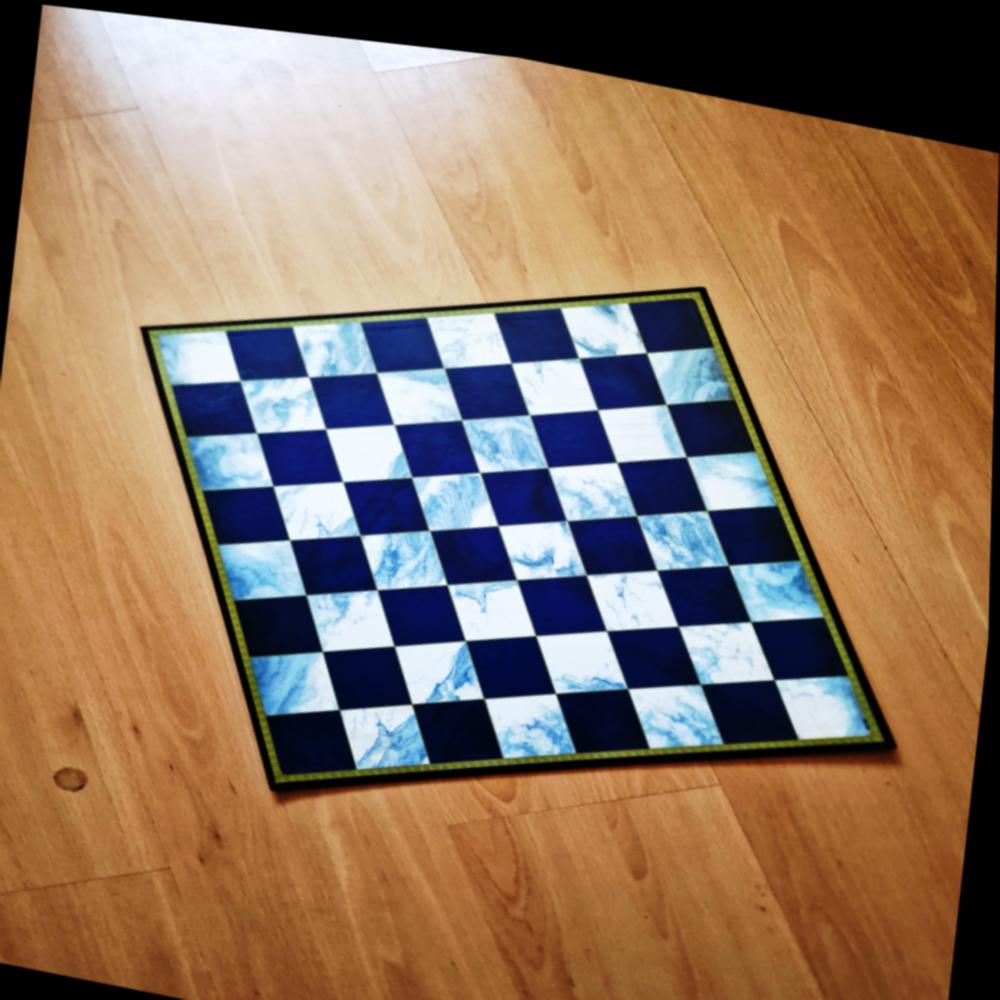chessfield: (765, 639, 891, 741), (623, 654, 734, 751), (478, 668, 585, 766), (674, 590, 783, 682), (697, 649, 804, 741), (338, 679, 442, 773), (549, 662, 654, 755), (138, 308, 249, 395), (721, 528, 828, 618), (242, 632, 345, 725), (527, 601, 632, 692), (212, 521, 317, 610), (627, 481, 734, 567), (388, 615, 488, 707), (261, 689, 361, 781), (410, 675, 512, 765), (296, 567, 399, 656), (443, 556, 546, 645), (580, 547, 685, 634), (603, 598, 706, 686), (355, 509, 457, 597), (317, 626, 417, 715), (679, 421, 781, 508), (648, 539, 751, 625), (593, 374, 695, 460), (748, 587, 847, 674), (267, 459, 367, 545), (373, 561, 473, 647), (464, 611, 561, 699), (404, 448, 503, 534), (539, 439, 639, 524), (510, 551, 610, 636), (319, 404, 417, 489), (704, 476, 803, 560), (612, 432, 713, 514), (419, 286, 517, 370), (493, 497, 592, 580), (233, 573, 329, 658), (622, 263, 718, 348), (505, 335, 602, 418), (641, 318, 738, 401), (372, 346, 470, 428), (196, 471, 291, 555), (285, 516, 381, 599), (523, 385, 620, 467), (460, 389, 557, 471), (181, 413, 275, 497), (287, 297, 381, 381), (561, 489, 657, 571), (570, 326, 666, 408), (486, 281, 582, 363), (557, 272, 653, 354), (239, 356, 334, 438), (663, 373, 760, 453), (428, 502, 522, 584), (337, 454, 432, 535), (390, 396, 484, 477), (220, 305, 314, 385), (255, 413, 348, 493), (478, 446, 571, 526), (437, 340, 531, 419), (304, 355, 397, 433), (356, 298, 446, 377), (172, 369, 256, 447)
